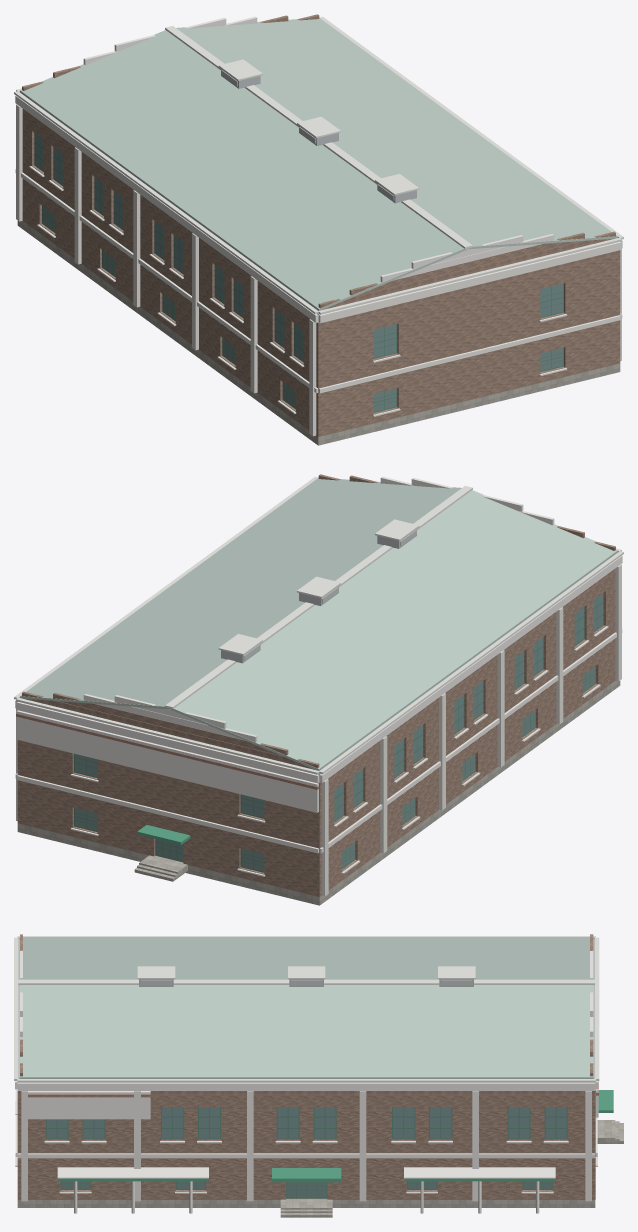
3 renders of one model, top to bottom at view 1: azimuth 30°, elevation 25°; view 2: azimuth 150°, elevation 25°; view 3: azimuth 270°, elevation 25°, orthographic. The views are drawn at different scales.
Visible parts, largest first — view 1: bonggok__gymroof, bonggok__gymbrick, bonggok__band, bonggok__cap, bonggok__panel, bonggok__stone, bonggok__clerestoryglass, bonggok__sideglass, bonggok__frame, bonggok__sill, bonggok__metalroof; view 2: bonggok__gymroof, bonggok__gymbrick, bonggok__panel, bonggok__band, bonggok__cap, bonggok__stone, bonggok__clerestoryglass, bonggok__frame, bonggok__sideglass, bonggok__sill, bonggok__brick, bonggok__metalroof (+1 smaller); view 3: bonggok__gymroof, bonggok__gymbrick, bonggok__band, bonggok__cap, bonggok__panel, bonggok__clerestoryglass, bonggok__stone, bonggok__frame, bonggok__greencanopy, bonggok__glass, bonggok__sill, bonggok__metalroof (+5 smaller).
Part boxes in pixels (<box>): bonggok__gymroof: <box>20,18,617,310</box>; bonggok__gymbrick: <box>22,14,620,436</box>; bonggok__band: <box>15,95,622,393</box>; bonggok__cap: <box>14,16,623,314</box>; bonggok__panel: <box>16,16,621,436</box>; bonggok__stone: <box>17,220,620,445</box>; bonggok__clerestoryglass: <box>34,133,562,361</box>; bonggok__sideglass: <box>42,206,562,411</box>; bonggok__frame: <box>34,133,563,412</box>; bonggok__sill: <box>29,166,567,416</box>; bonggok__metalroof: <box>221,69,416,314</box>; bonggok__gymroof: <box>20,478,617,770</box>; bonggok__gymbrick: <box>17,474,615,896</box>; bonggok__panel: <box>16,476,621,896</box>; bonggok__band: <box>15,555,622,853</box>; bonggok__cap: <box>14,476,623,774</box>; bonggok__stone: <box>17,680,620,905</box>; bonggok__clerestoryglass: <box>75,593,603,821</box>; bonggok__frame: <box>74,593,603,872</box>; bonggok__sideglass: <box>75,666,595,871</box>; bonggok__sill: <box>70,626,608,876</box>; bonggok__brick: <box>16,713,318,789</box>; bonggok__metalroof: <box>221,529,416,774</box>; bonggok__gymroof: <box>19,937,593,1078</box>; bonggok__gymbrick: <box>17,934,595,1199</box>; bonggok__band: <box>15,1081,598,1213</box>; bonggok__cap: <box>14,936,599,1082</box>; bonggok__panel: <box>20,951,598,1201</box>; bonggok__clerestoryglass: <box>46,1107,566,1138</box>; bonggok__stone: <box>17,1200,595,1207</box>; bonggok__frame: <box>45,1107,567,1198</box>; bonggok__greencanopy: <box>58,1090,613,1182</box>; bonggok__glass: <box>61,1181,551,1197</box>; bonggok__sill: <box>15,1101,597,1193</box>; bonggok__metalroof: <box>18,939,594,1078</box>.
Bounding box in the file's own units: 31.81 × 15.79 × 52.8.
17 materials, 3 textured.
